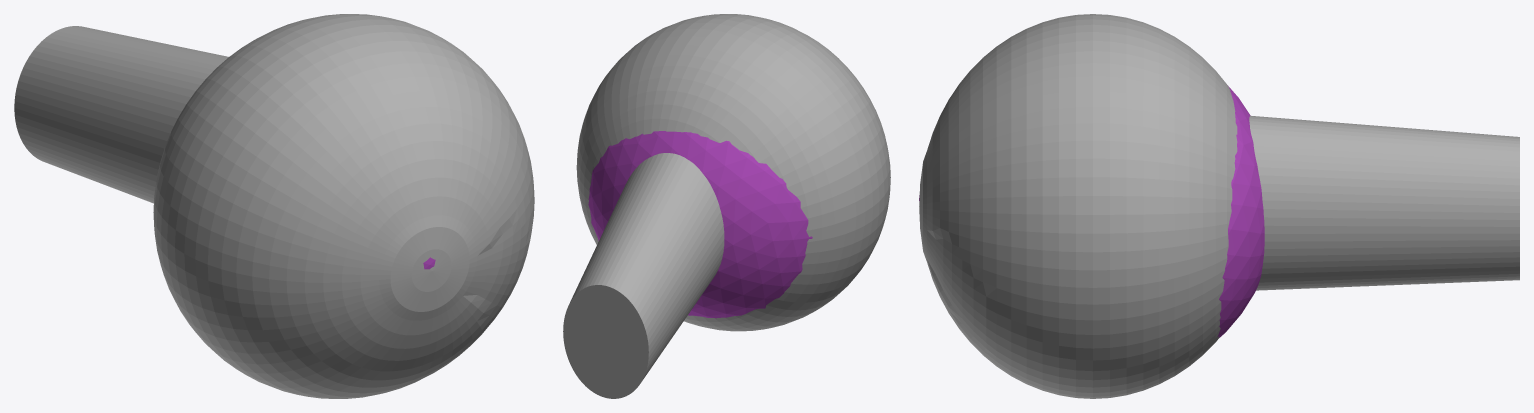
The model's file is G03_DEFORM_GROW_GT_ALIGNED.glb.
3 renders of one model, left to right at view 1: azimuth 30°, elevation 25°; view 2: azimuth 150°, elevation 25°; view 3: azimuth 270°, elevation 25°, orthographic. The views are drawn at different scales.
Visible parts, largest first — view 1: GT; view 2: GT, DEFORM_GROW_ALIGNED_EVALUATION_ONLY; view 3: GT, DEFORM_GROW_ALIGNED_EVALUATION_ONLY.
Part boxes in pixels (x1,y1,x2,y2): GT: (14, 14, 534, 398); GT: (563, 14, 890, 398); DEFORM_GROW_ALIGNED_EVALUATION_ONLY: (588, 131, 812, 318); GT: (919, 14, 1519, 398); DEFORM_GROW_ALIGNED_EVALUATION_ONLY: (919, 86, 1264, 337).
Size of the model in its own units: 0.02 by 0.02 by 0.0312.
